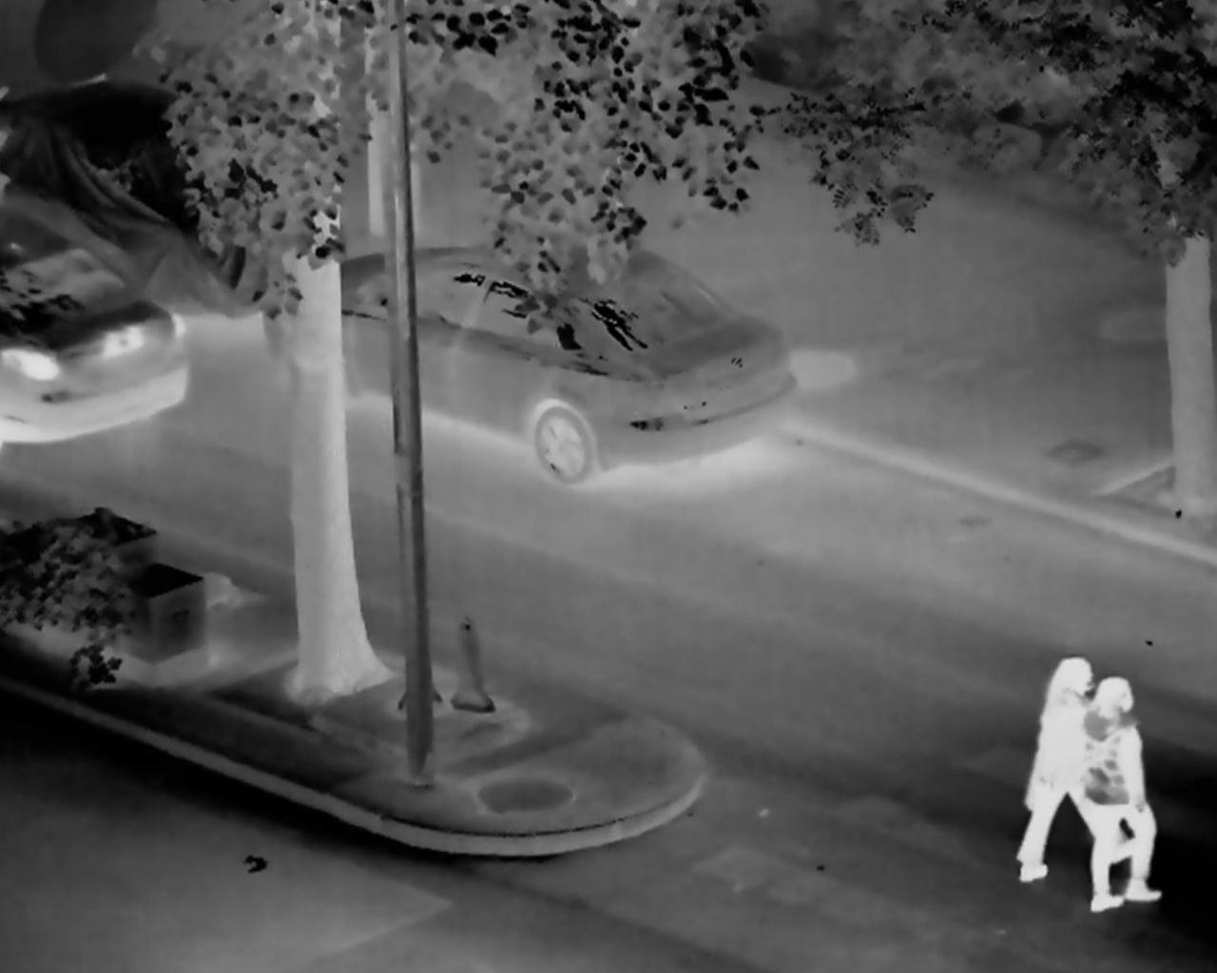person: (1015, 642, 1117, 890), (1094, 663, 1169, 911)
